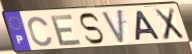A: (134, 10, 162, 43)
C: (26, 15, 54, 48)
E: (49, 13, 84, 47)
S: (78, 12, 106, 46)
V: (100, 8, 125, 46)
X: (152, 7, 186, 42)
